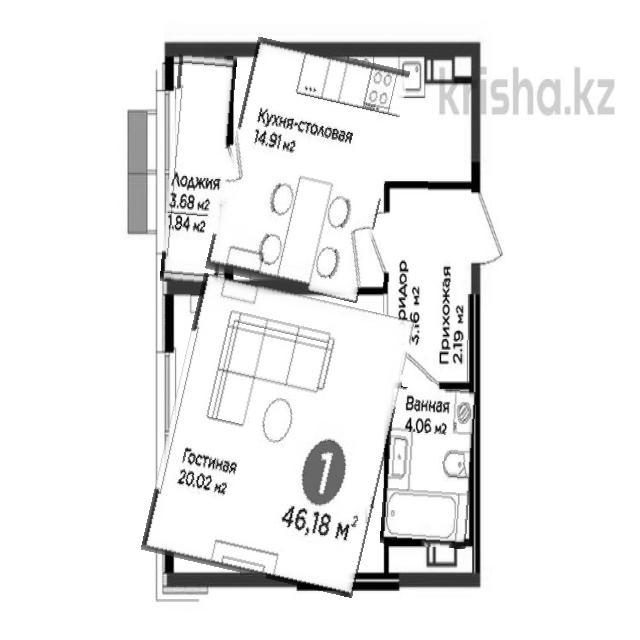balcony: (165, 53, 233, 284)
bathroom: (383, 387, 473, 548)
hallway: (383, 182, 471, 382)
kitchen: (218, 44, 398, 296)
living_room: (155, 284, 400, 588)
